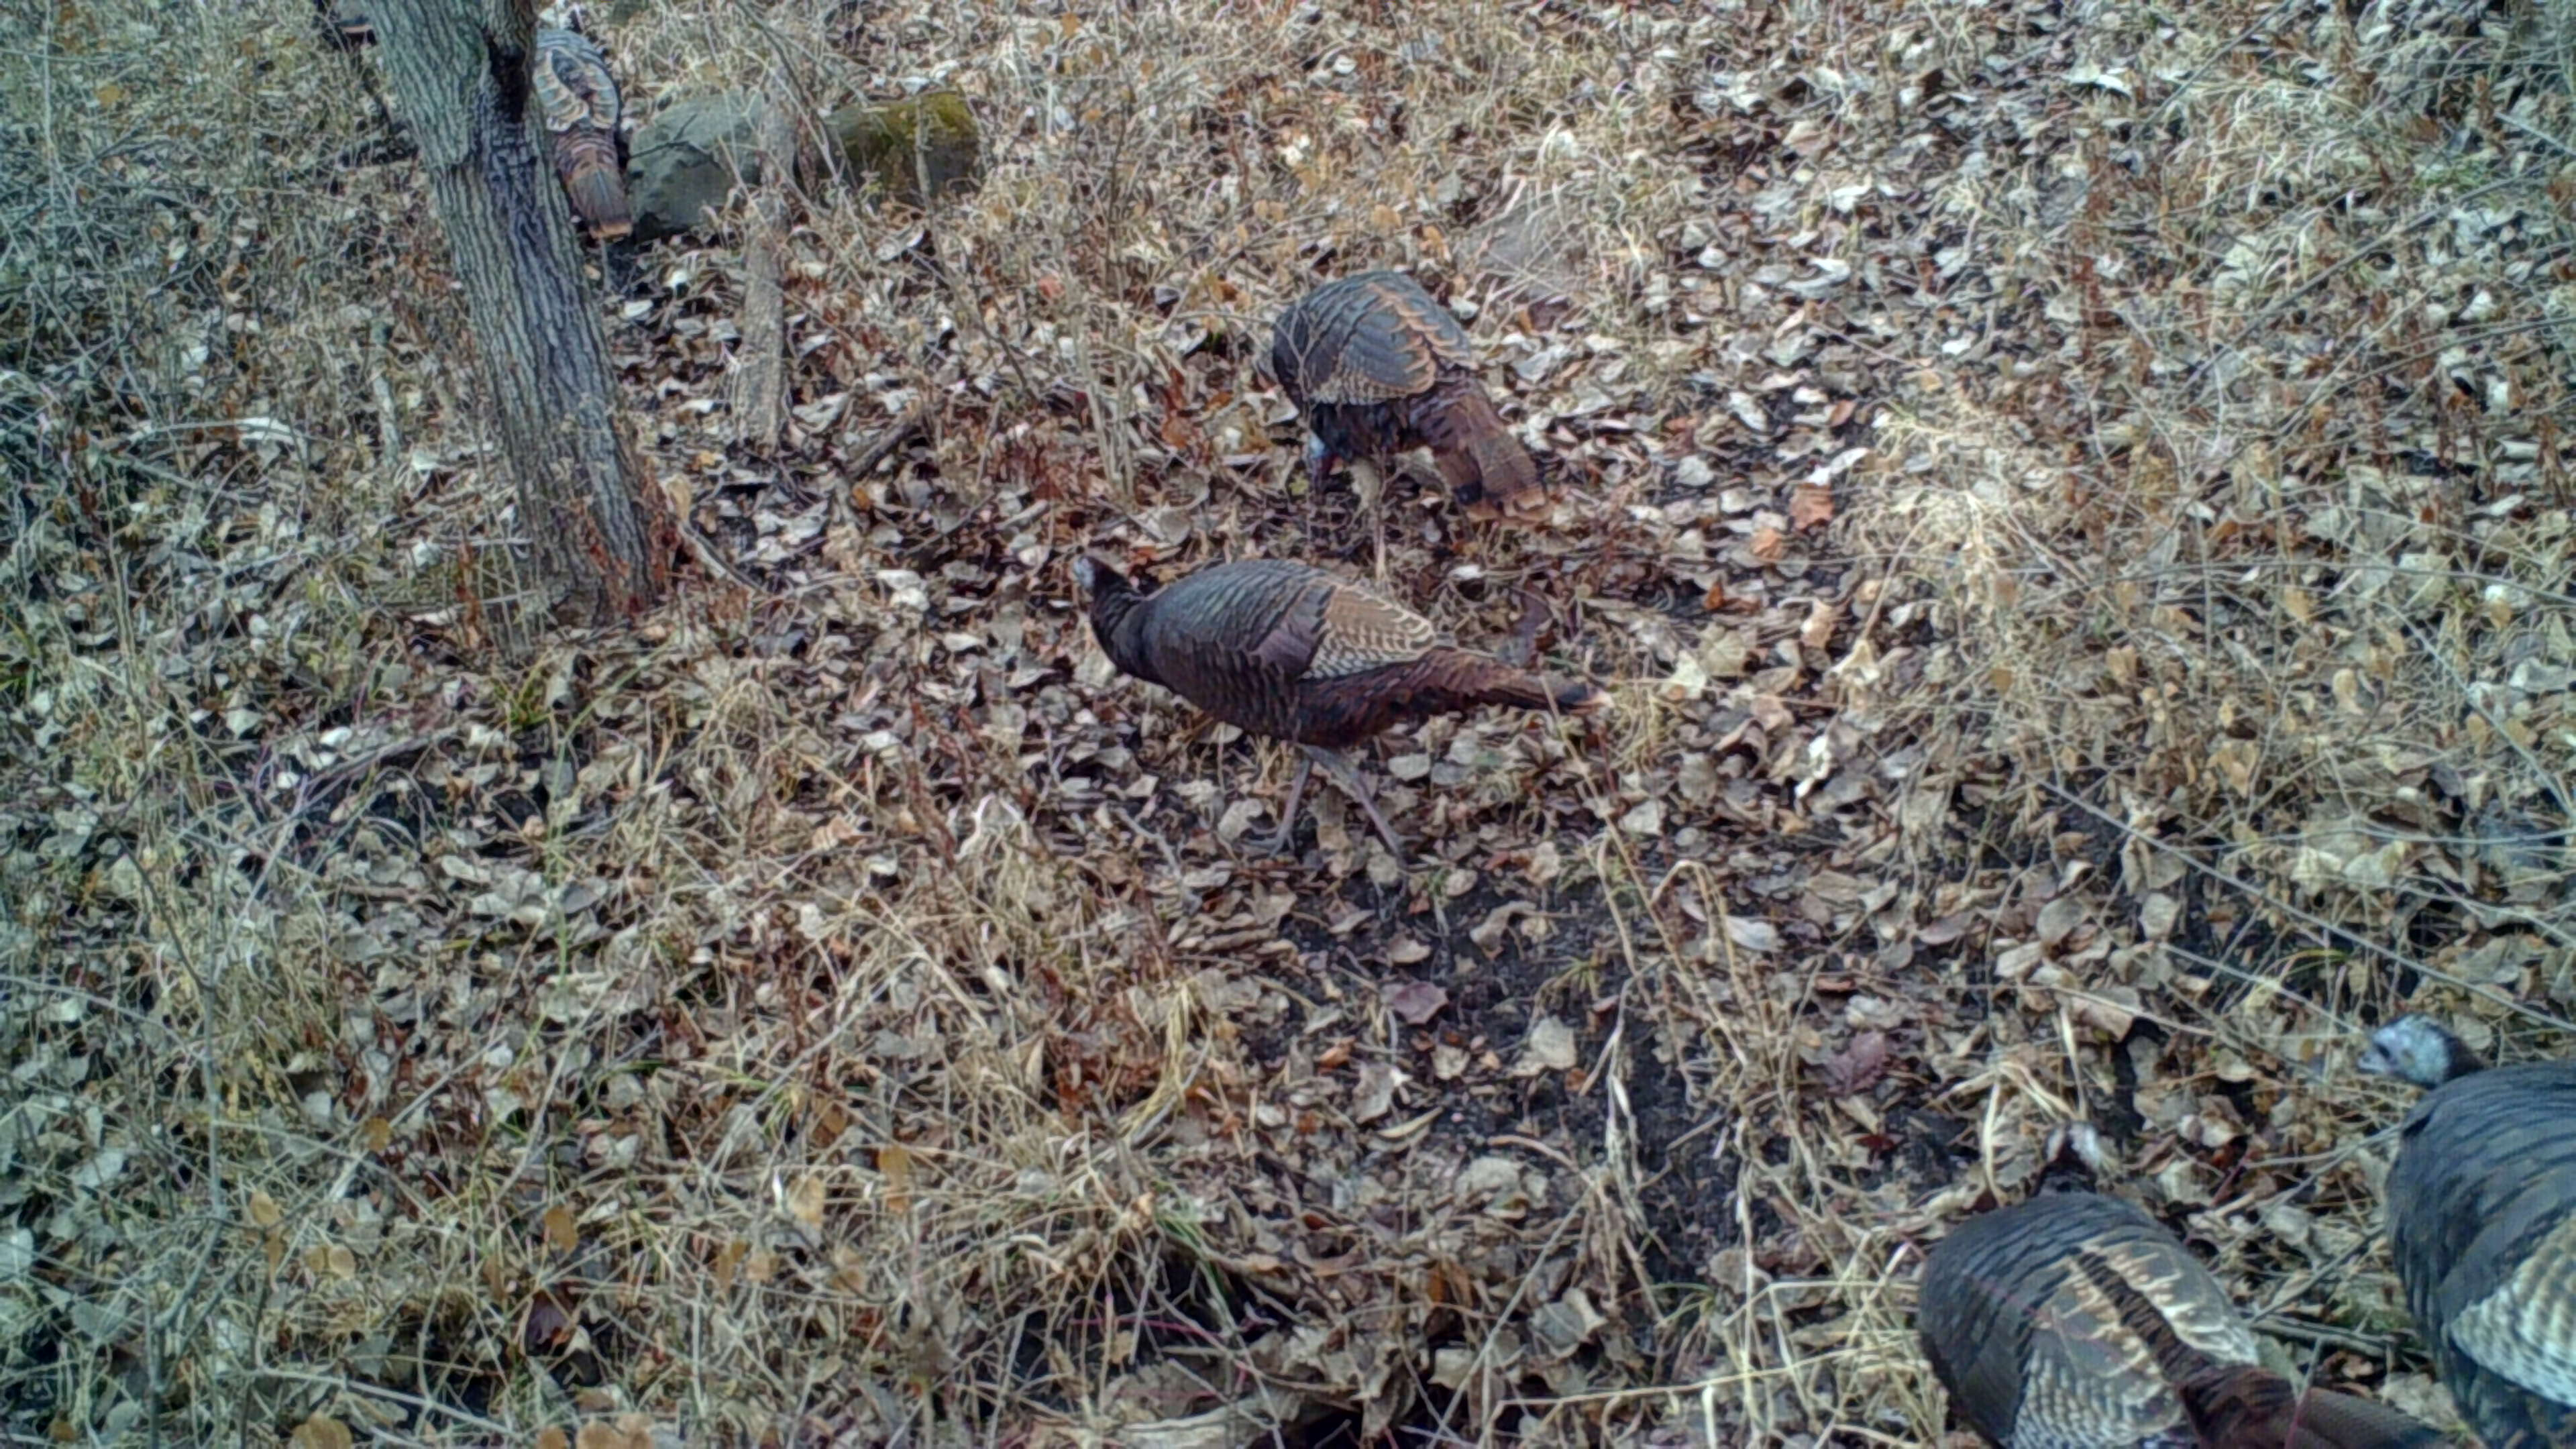Turkey: (1907, 1122, 2445, 1449), (1063, 538, 1617, 750), (2346, 1012, 2576, 1449), (1258, 267, 1557, 524), (513, 0, 639, 249)
